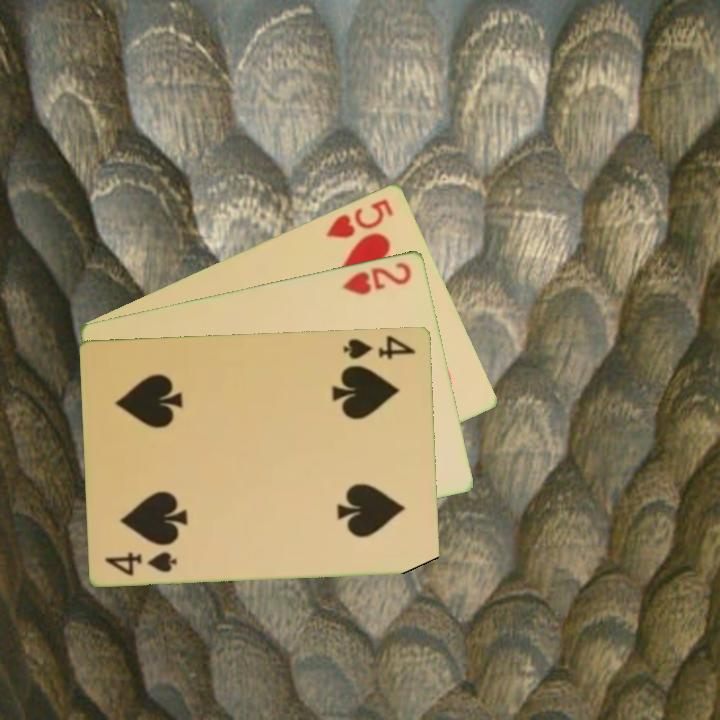2h: (339, 258, 415, 297)
4s: (101, 547, 181, 578), (340, 331, 419, 362)
5h: (322, 195, 397, 241)
